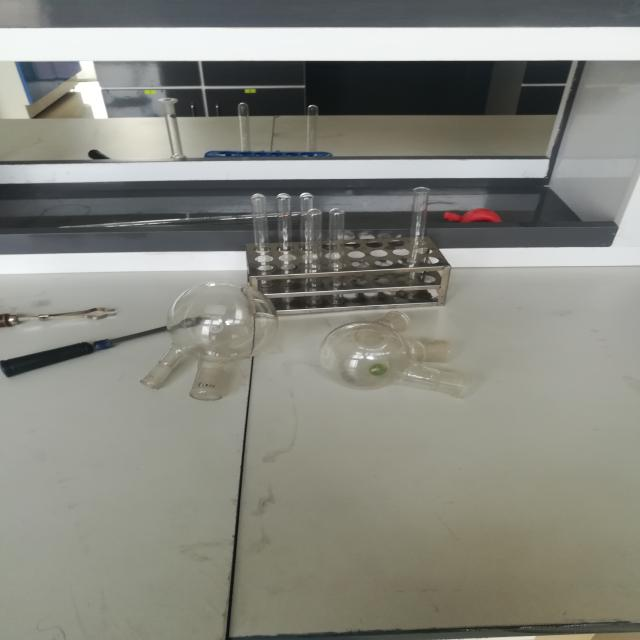Round_Bottom_Flask_Borosilicate_Glass_2_Neck: (127, 257, 280, 431)
Round_Bottom_Flask_Borosilicate_Glass_3_Neck: (304, 288, 504, 432)
